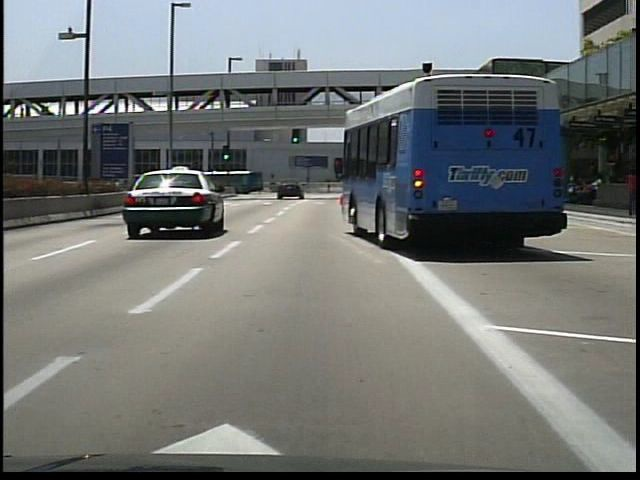person: (620, 166, 638, 218), (564, 170, 578, 205)
